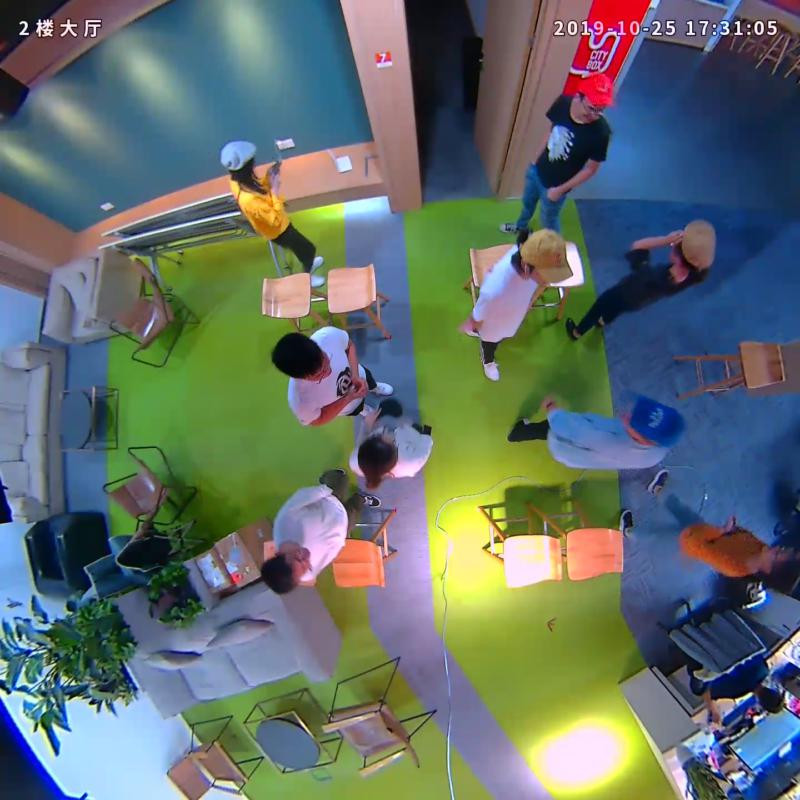head: (619, 394, 686, 451), (518, 227, 574, 288), (271, 331, 332, 382), (260, 545, 313, 597), (670, 217, 717, 275), (574, 71, 613, 123), (758, 547, 800, 594), (358, 435, 400, 479), (219, 139, 257, 175)
